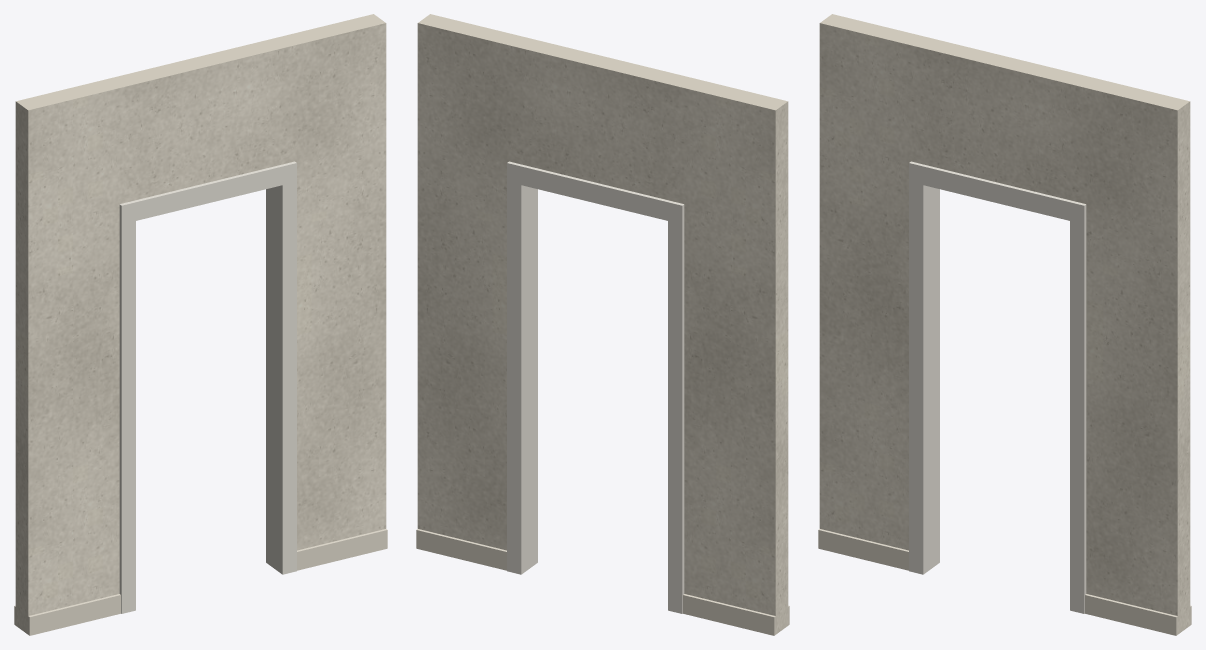
File: interior_wall_doorway.glb
3 renders of one model, left to right at view 1: azimuth 30°, elevation 25°; view 2: azimuth 150°, elevation 25°; view 3: azimuth 330°, elevation 25°, orthographic.
Parts seen in each view (by area): view 1: interior_wall_doorway_plaster, interior_wall_doorway_frame, interior_wall_doorway_trim; view 2: interior_wall_doorway_plaster, interior_wall_doorway_frame, interior_wall_doorway_trim; view 3: interior_wall_doorway_plaster, interior_wall_doorway_frame, interior_wall_doorway_trim.
Part boxes in pixels (x1,y1,x2,y2): interior_wall_doorway_plaster: (15, 14, 386, 634); interior_wall_doorway_frame: (119, 161, 296, 613); interior_wall_doorway_trim: (14, 529, 387, 635); interior_wall_doorway_plaster: (417, 14, 788, 634); interior_wall_doorway_frame: (507, 161, 684, 613); interior_wall_doorway_trim: (416, 529, 789, 635); interior_wall_doorway_plaster: (819, 14, 1190, 634); interior_wall_doorway_frame: (909, 161, 1086, 613); interior_wall_doorway_trim: (818, 529, 1191, 635).
Bounding box in the file's own units: 2 × 2.8 × 0.16.
Materials: 3 (1 with a texture image).
